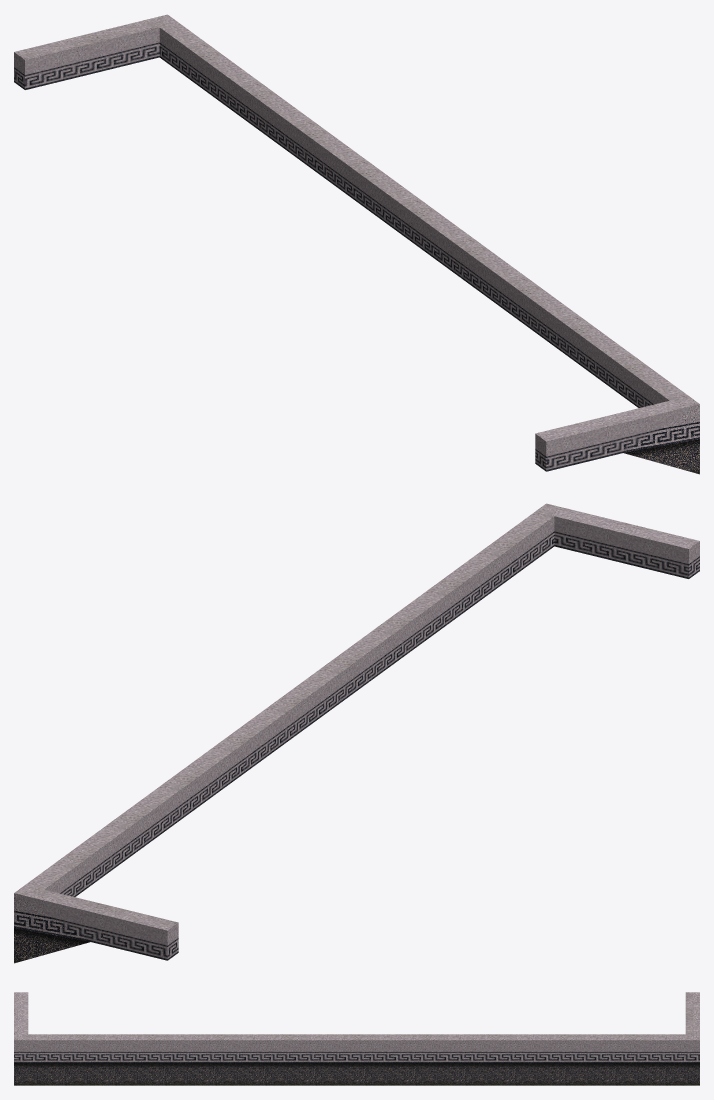
The model's file is M7_Zone4_TCWall1.glb.
3 views of the same model, one above another, from view 1: azimuth 30°, elevation 25°; view 2: azimuth 150°, elevation 25°; view 3: azimuth 270°, elevation 25° (orthographic). The views are drawn at different scales.
Visible parts, largest first — view 1: M7_ZONE4_TCWALL1; view 2: M7_ZONE4_TCWALL1; view 3: M7_ZONE4_TCWALL1.
Part boxes in pixels (x1,y1,x2,y2): M7_ZONE4_TCWALL1: (14, 14, 699, 474); M7_ZONE4_TCWALL1: (14, 503, 699, 963); M7_ZONE4_TCWALL1: (14, 992, 699, 1085).
Size of the model in its own units: 4 by 1.75 by 24.
Materials: 2 (2 with a texture image).
